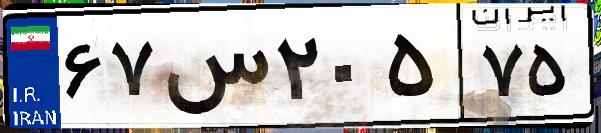0: (330, 28, 385, 110)
2: (270, 28, 330, 110)
5: (385, 28, 445, 110), (525, 38, 570, 115)
6: (57, 26, 110, 100)
7: (475, 38, 525, 113), (110, 28, 158, 98)
س: (158, 20, 270, 120)
